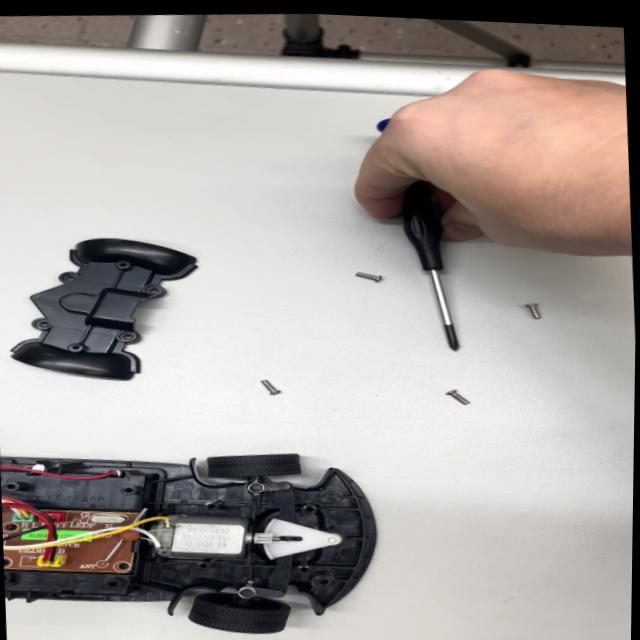Chassis: (0, 424, 398, 640)
motor: (138, 502, 285, 565)
motor_cover: (11, 224, 223, 390)
screw: (344, 259, 395, 289), (513, 296, 552, 325), (439, 385, 482, 409), (259, 372, 289, 401)
screw_driver: (376, 108, 470, 360)
wheel: (180, 584, 299, 640), (199, 440, 310, 486)
